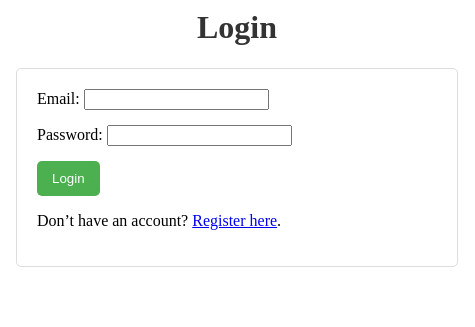
Test: Login Component › shows error message with invalid email
The image size is (475, 327).
In the field labelled "Email:": [176, 99] box [84, 89, 269, 110], type "wrong@exa"
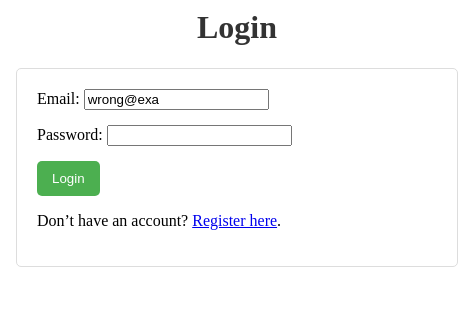
In the password field labelled "Password:": [199, 135] box [107, 125, 292, 146], type "wrongpassword"
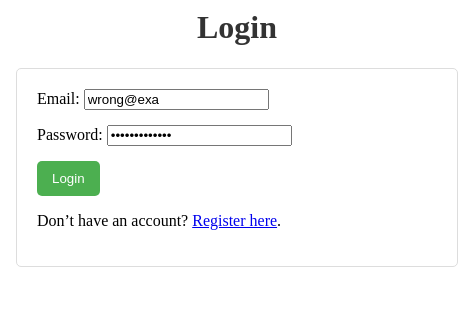
Click the button "Login": [68, 178] box [37, 161, 100, 196]
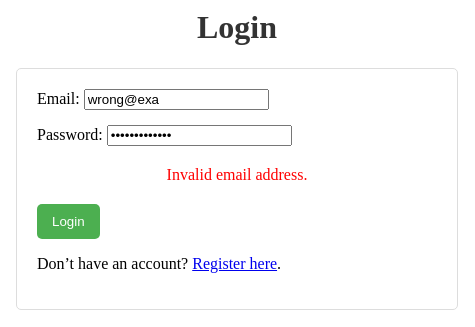
Expected: the text "Invalid email address." is shown, [167, 166, 307, 183]
